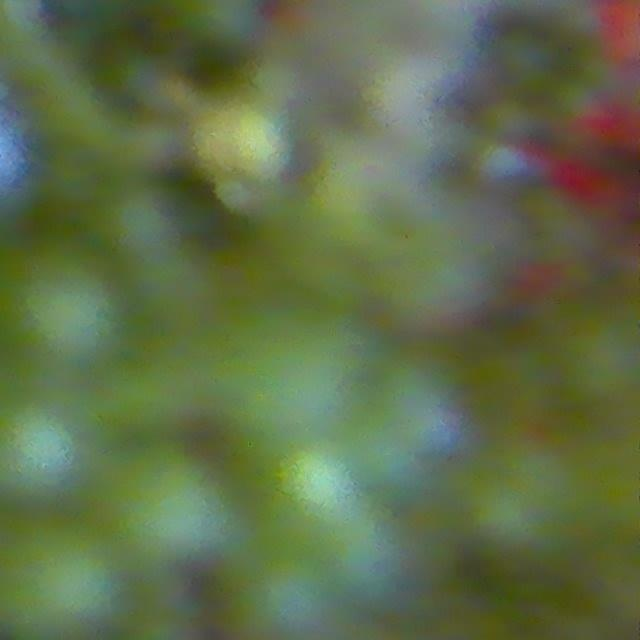SeaGrape: (0, 256, 114, 377), (0, 530, 124, 640), (262, 432, 368, 548), (105, 459, 225, 552), (226, 549, 340, 640), (0, 389, 87, 507), (99, 179, 186, 265)
